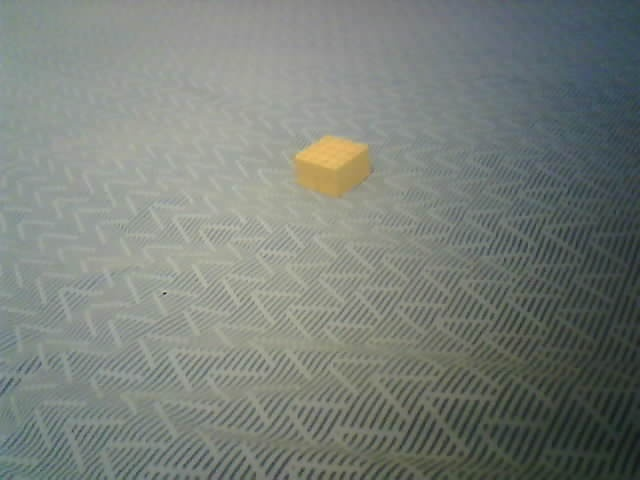lego: (293, 134, 371, 198)
